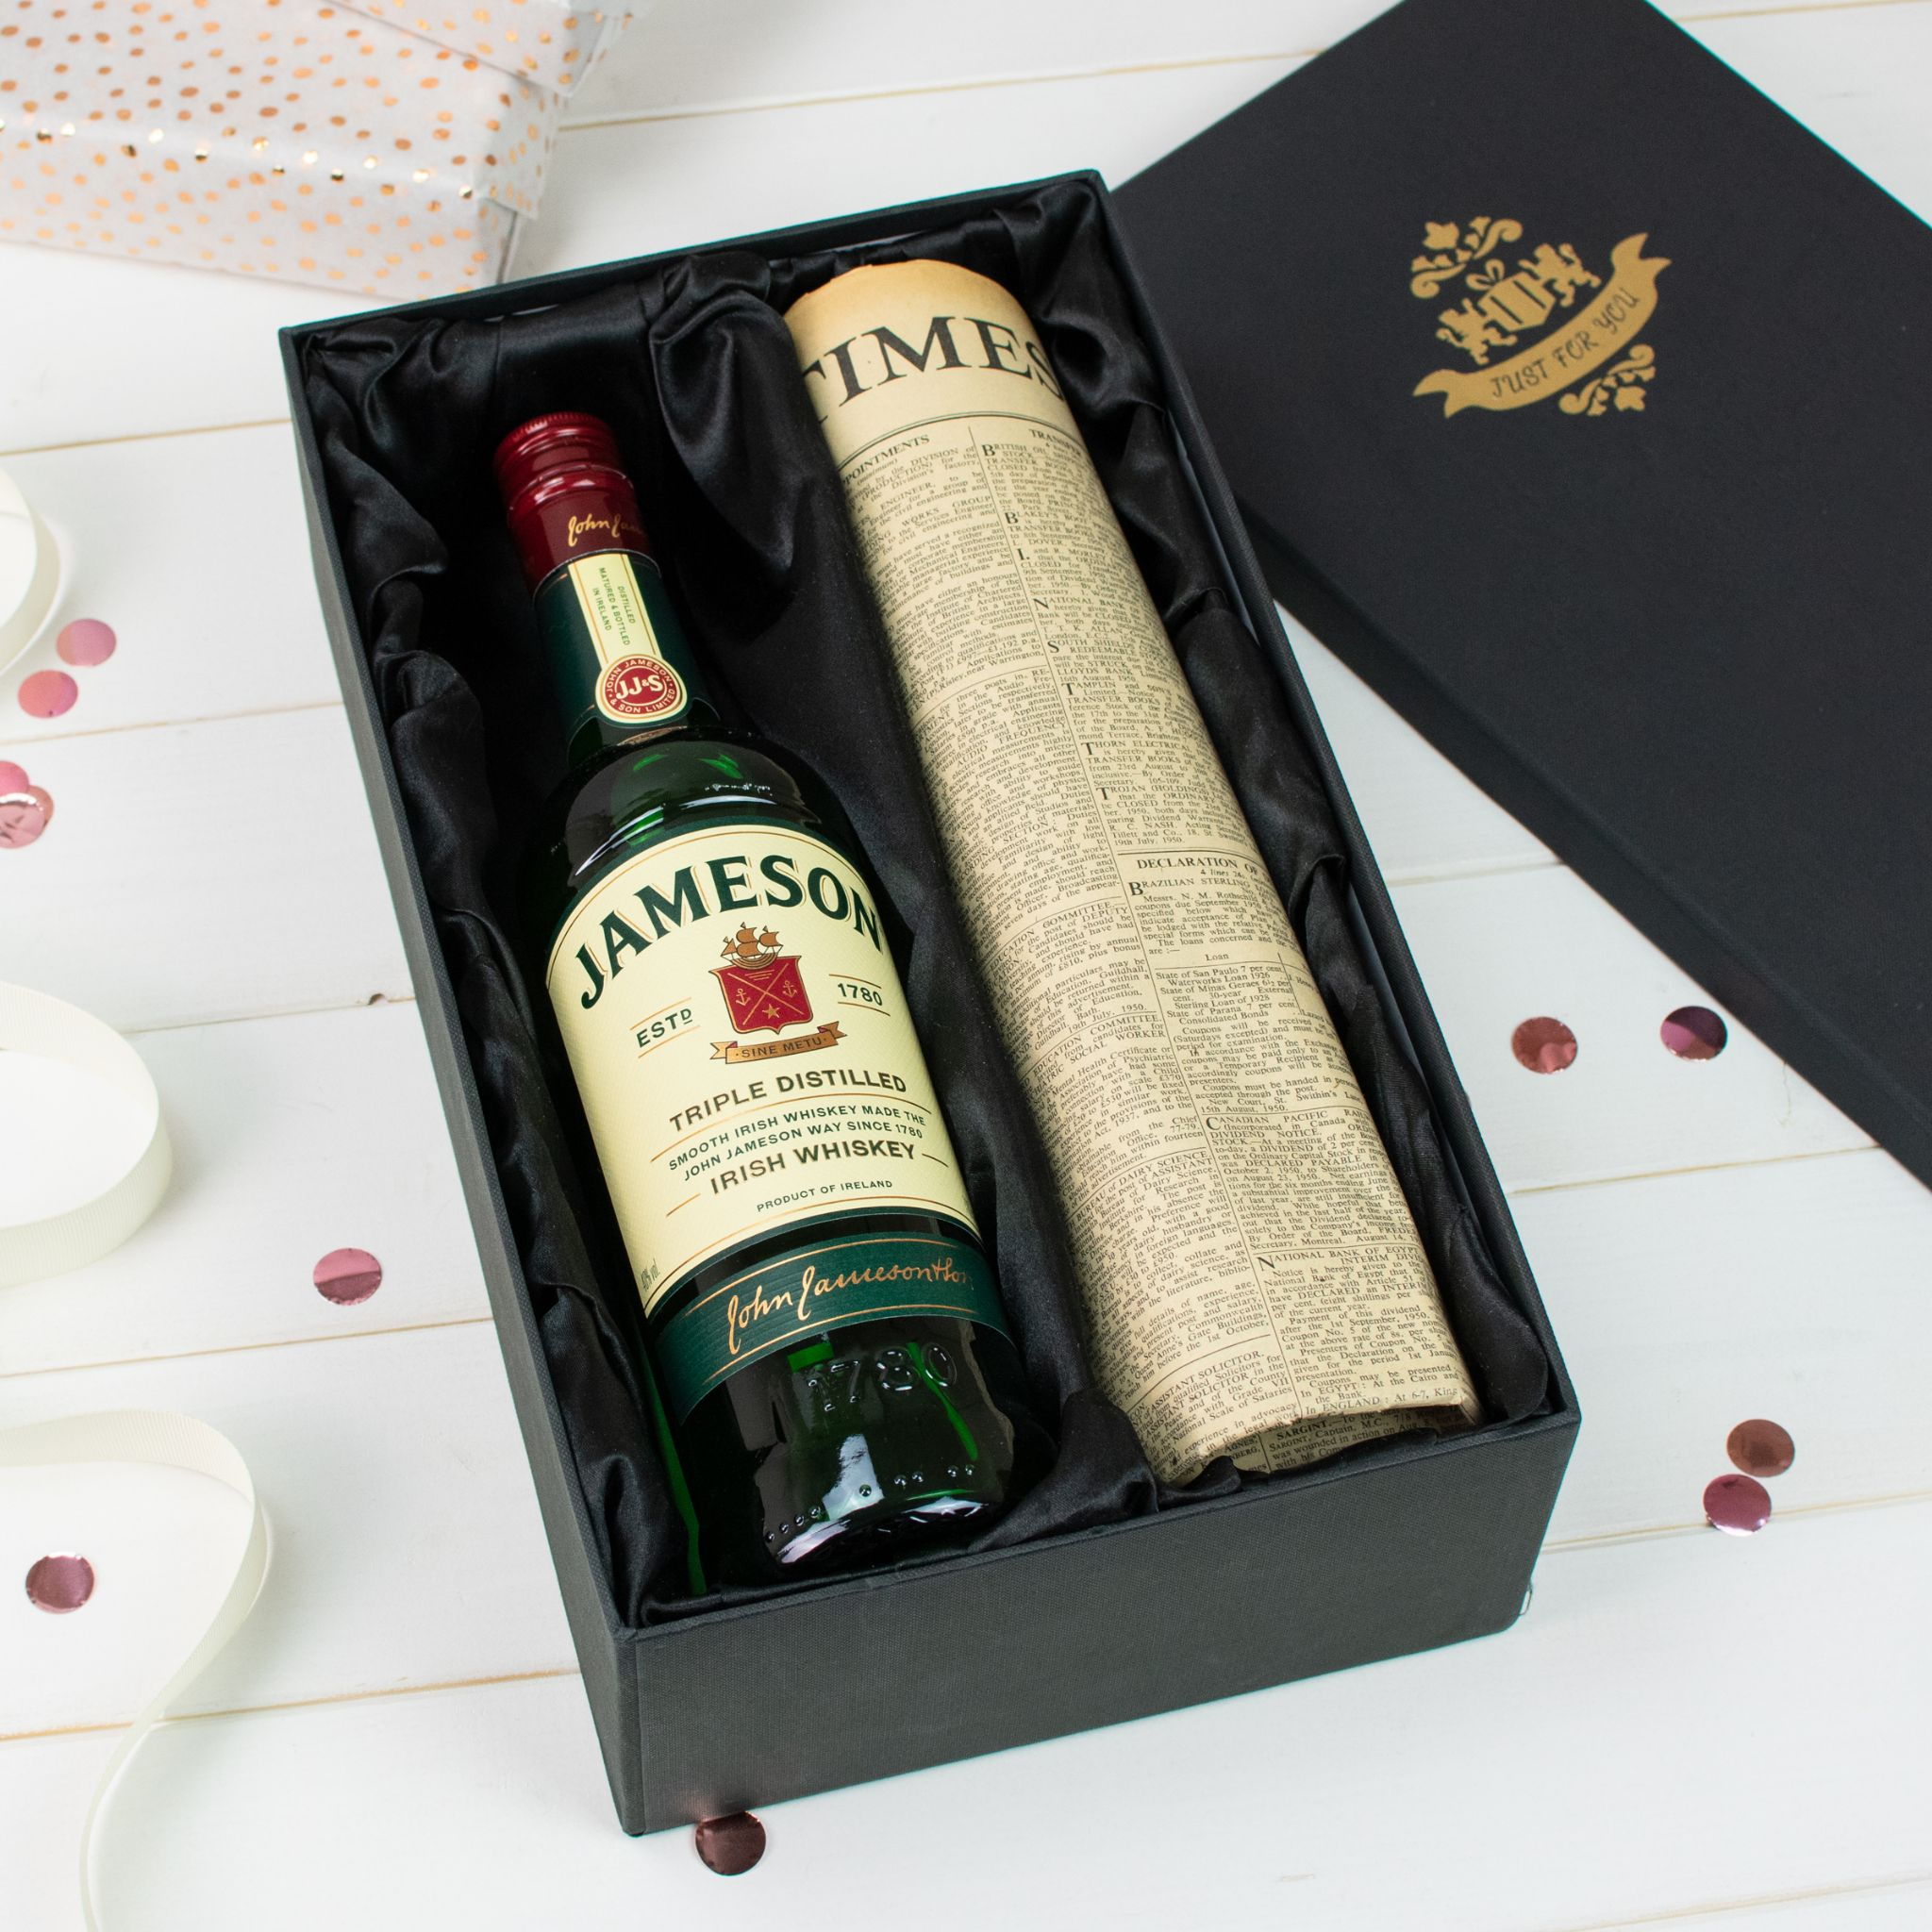Jameson: (476, 393, 1067, 1624)
